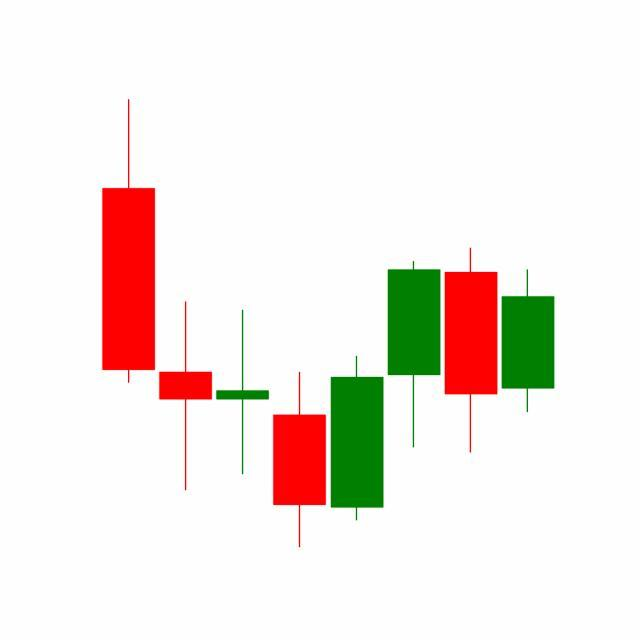Upside-Downside Gap Three Methods: (328, 246, 500, 525)
